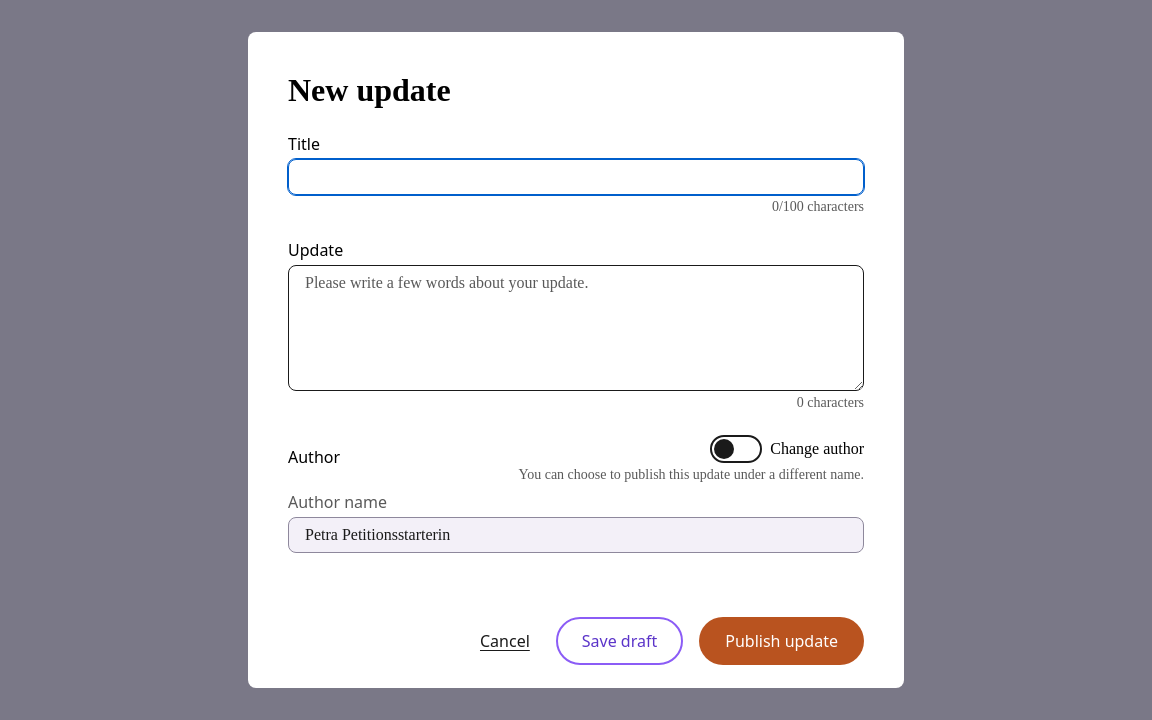
Test: UpdateDialog › only shows a Published message when a valid update is published
Type "Release notes" into the field labelled "Title" at (576, 177), box 288,159 -> 864,195
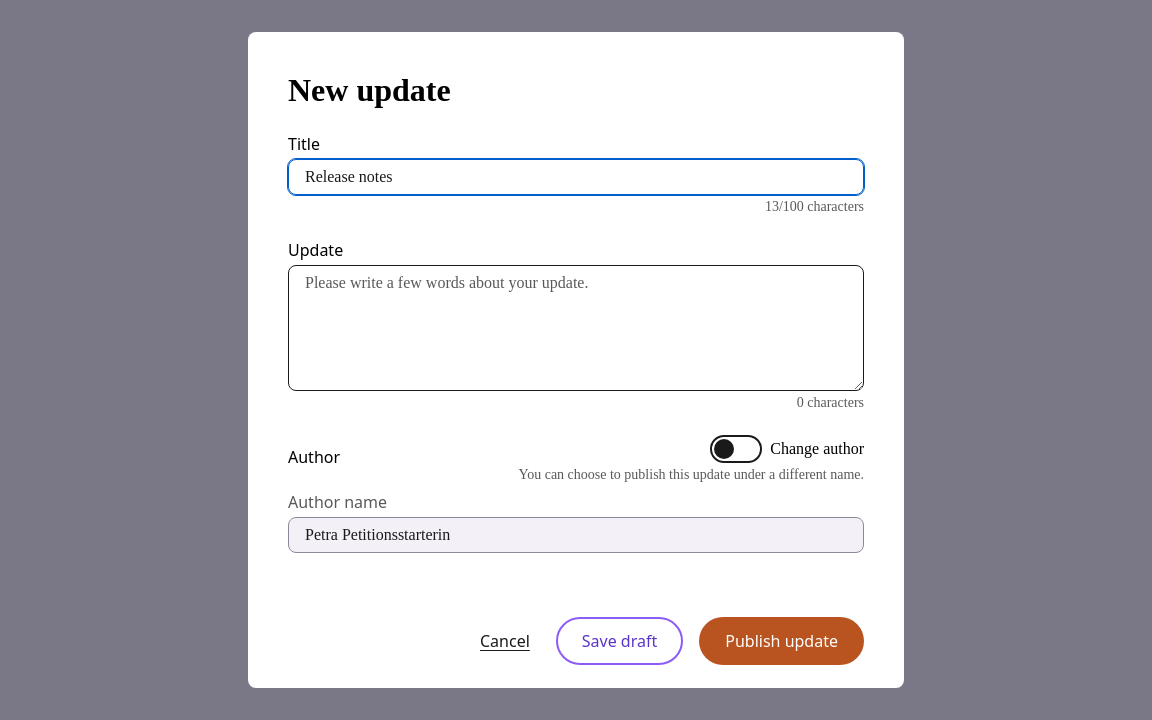
Type "Version 2 is out." into the text box labelled "Update" at (576, 328), box 288,265 -> 864,391
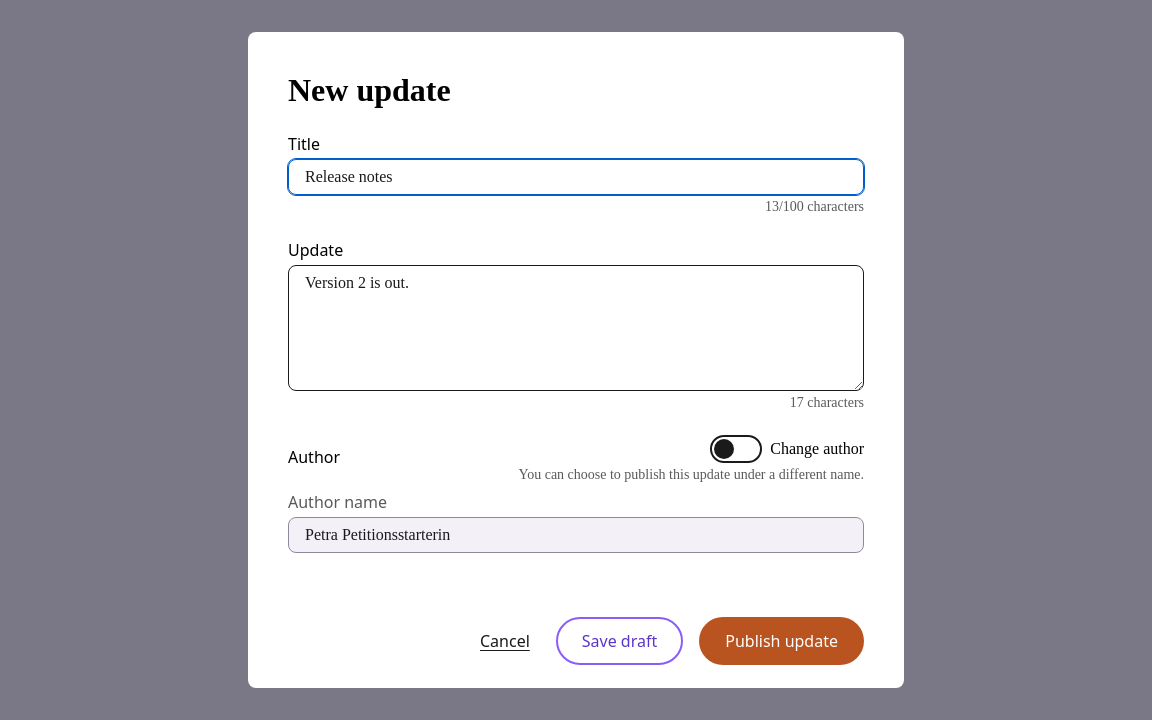
Click the button "Publish update" at (782, 641), box 699,617 -> 864,665
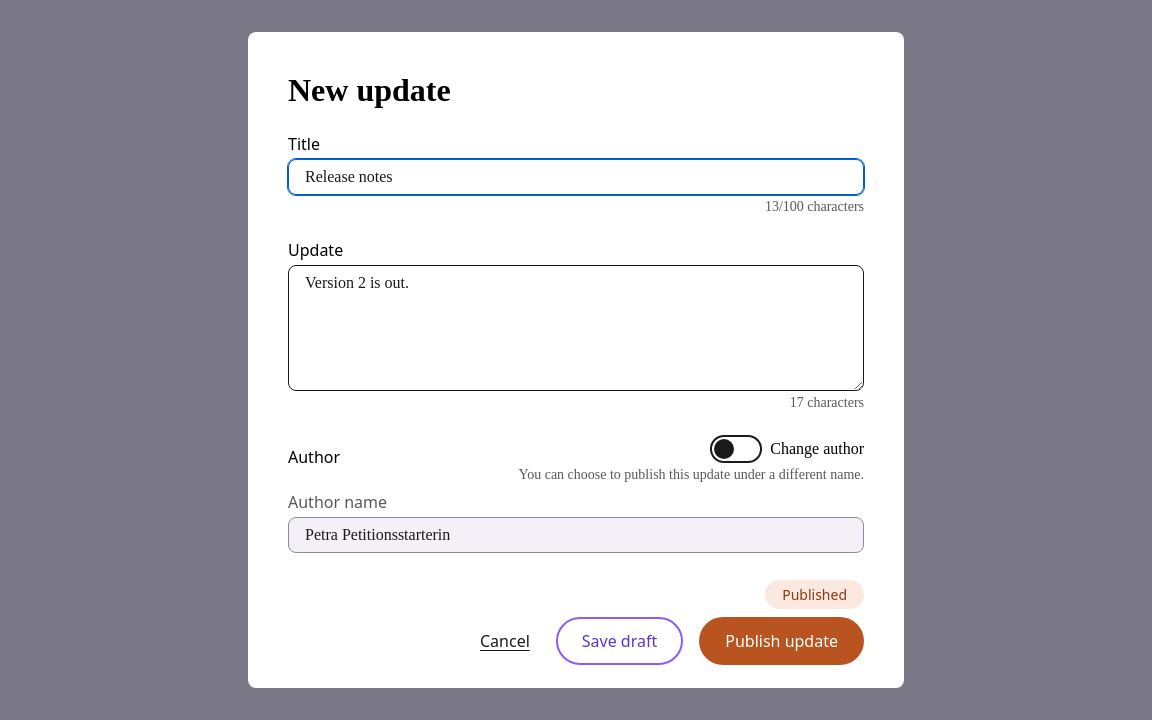
Expected: the dialog is shown, 248,32 -> 904,688
Now the message reads "Published", box 782,585 -> 847,604
